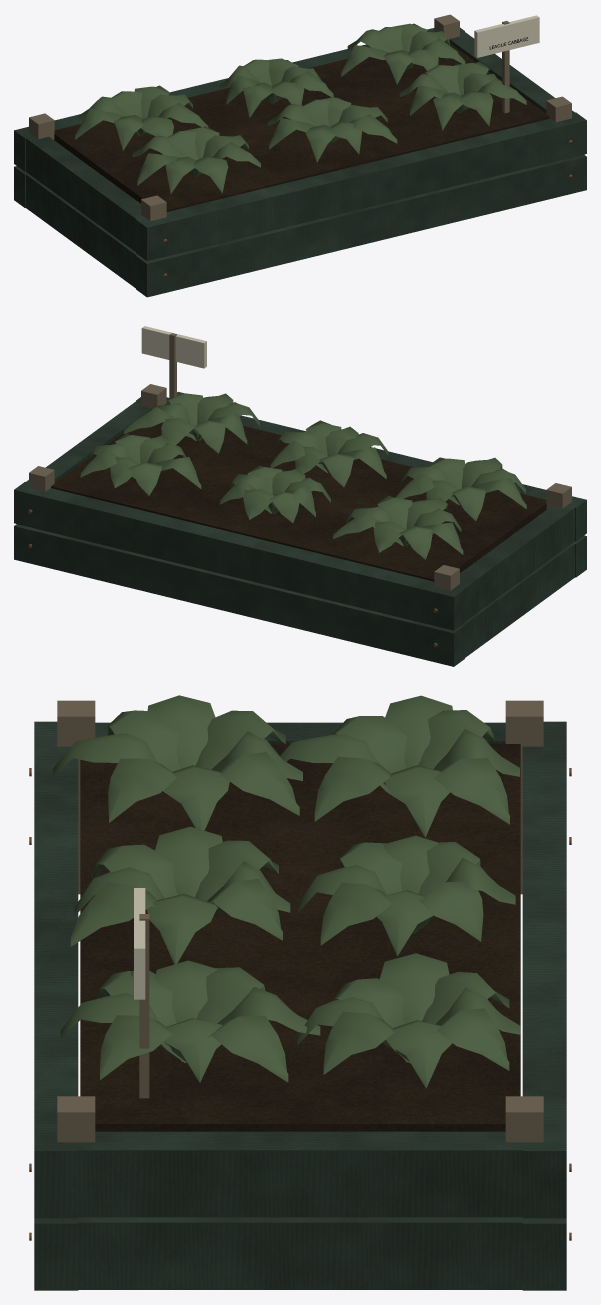
File: raised-growing-bed.glb
3 views of the same model, one above another, from view 1: azimuth 30°, elevation 25°; view 2: azimuth 150°, elevation 25°; view 3: azimuth 270°, elevation 25° (orthographic). The views are drawn at different scales.
Parts seen in each view (by area): view 1: Curling brassica leaves, Loose compost, Weathered bed long plank.002, Weathered bed long plank, Weathered bed end plank.002, Weathered bed end plank, Weathered bed long plank.003, Plant label face, Weathered bed end plank.003, Bed corner stake.001, Bed corner stake, Bed corner stake.002 (+3 smaller); view 2: Curling brassica leaves, Loose compost, Weathered bed long plank.003, Weathered bed long plank.001, Weathered bed end plank.002, Weathered bed end plank, Weathered bed end plank.003, Weathered bed long plank.002, Plant label face, Bed corner stake, Bed corner stake.001, Bed corner stake.003 (+2 smaller); view 3: Curling brassica leaves, Loose compost, Weathered bed end plank.003, Weathered bed end plank.001, Weathered bed long plank.003, Weathered bed long plank.002, Weathered bed long plank, Weathered bed long plank.001, Bed corner stake.001, Bed corner stake, Bed corner stake.002, Bed corner stake.003 (+3 smaller).
Part boxes in pixels (x1,y1,x2,y2): Curling brassica leaves: (75,23,526,193); Loose compost: (54,41,549,211); Weathered bed long plank.002: (136,112,586,260); Weathered bed long plank: (136,154,586,297); Weathered bed end plank.002: (20,132,160,251); Weathered bed end plank: (26,174,138,288); Weathered bed long plank.003: (14,27,464,171); Plant label face: (474,15,539,57); Weathered bed end plank.003: (449,28,574,120); Bed corner stake.001: (29,113,54,139); Bed corner stake: (141,195,166,221); Bed corner stake.002: (546,96,571,122); Curling brassica leaves: (80,391,526,559); Loose compost: (51,422,546,581); Weathered bed long plank.003: (14,482,464,630); Weathered bed long plank.001: (14,524,464,666); Weathered bed end plank.002: (440,505,574,621); Weathered bed end plank: (457,539,579,657); Weathered bed end plank.003: (21,398,151,490); Weathered bed long plank.002: (136,397,586,541); Plant label face: (141,326,206,368); Bed corner stake: (546,483,571,509); Bed corner stake.001: (434,565,459,590); Bed corner stake.003: (29,466,54,491); Curling brassica leaves: (53,695,520,1088); Loose compost: (80,743,520,1131); Weathered bed end plank.003: (56,1131,544,1217); Weathered bed end plank.001: (78,1217,523,1289); Weathered bed long plank.003: (522,721,566,1218); Weathered bed long plank.002: (34,721,78,1218); Weathered bed long plank: (34,1218,78,1290); Weathered bed long plank.001: (522,1218,566,1290); Bed corner stake.001: (505,700,543,894); Bed corner stake: (57,700,95,894); Bed corner stake.002: (57,1096,95,1142); Bed corner stake.003: (505,1096,543,1142).
Bounding box in the file's own units: 2.54 × 0.91 × 1.36.
7 materials, 2 textured.
